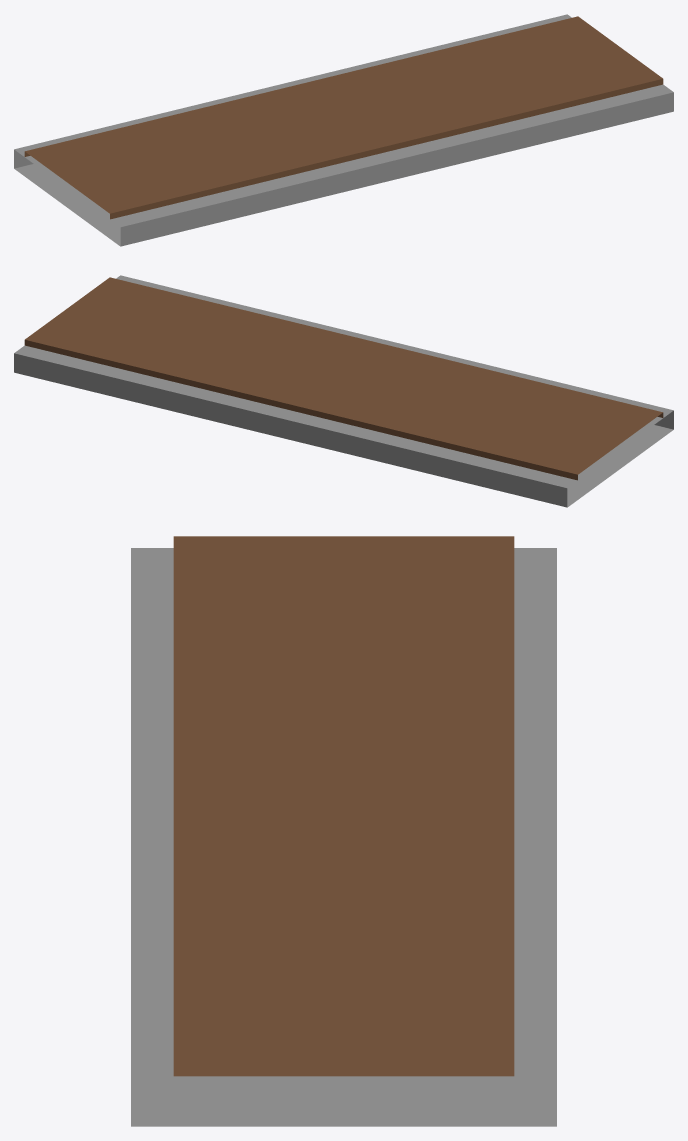
The model's file is 传送带.fbx.
3 views of the same model, one above another, from view 1: azimuth 30°, elevation 25°; view 2: azimuth 150°, elevation 25°; view 3: azimuth 270°, elevation 25° (orthographic). The views are drawn at different scales.
Visible parts, largest first — view 1: 传送带; view 2: 传送带; view 3: 传送带.
Part boxes in pixels (x1,y1,x2,y2): 传送带: (14,14,673,246); 传送带: (14,275,673,507); 传送带: (131,536,556,1126).
Bounding box in the file's own units: 300 × 13.01 × 100.
